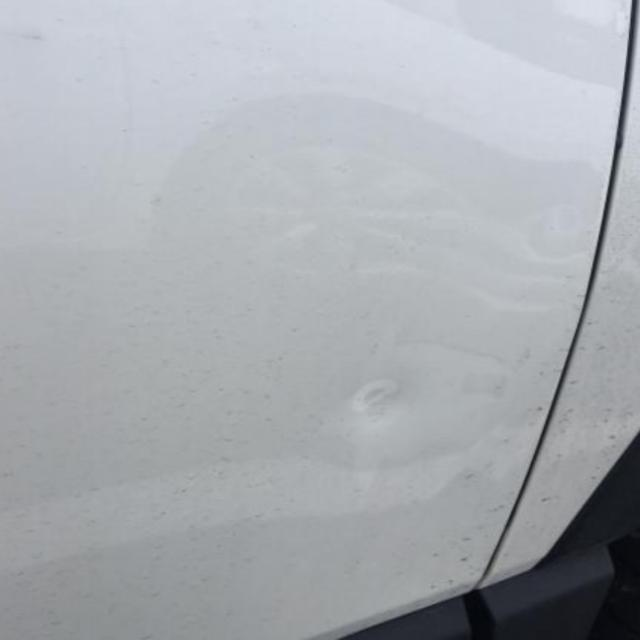dents: (340, 356, 412, 432)
